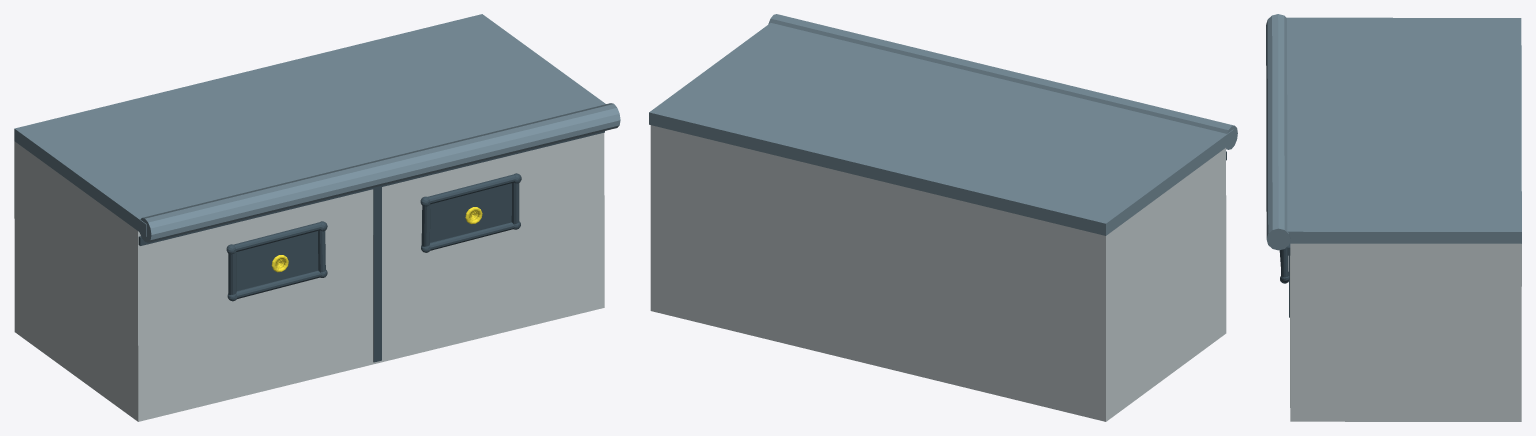
Rendered from LabDesk.fbx.
The picture shows the model from 3 angles, left to right: view 1: azimuth 30°, elevation 25°; view 2: azimuth 150°, elevation 25°; view 3: azimuth 270°, elevation 25°; orthographic projection. The views are drawn at different scales.
Parts seen in each view (by area): view 1: Node; view 2: Node; view 3: Node.
Boxes of the visible parts, x1,y1,x2,y2 form: Node: [14, 14, 620, 421]; Node: [649, 14, 1237, 421]; Node: [1266, 14, 1521, 421].
Bounding box in the file's own units: 232 × 98.18 × 117.
